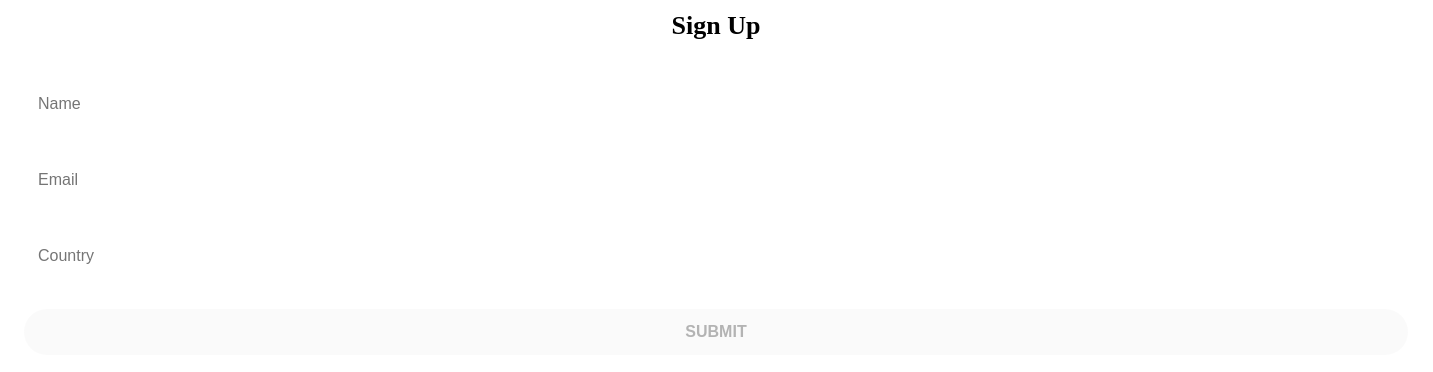
<SignUpForm/> › should enable submit "button" when form is valid
Type "cesar rivera" into the field with placeholder "Name" at (716, 104), box [24,81,1408,127]
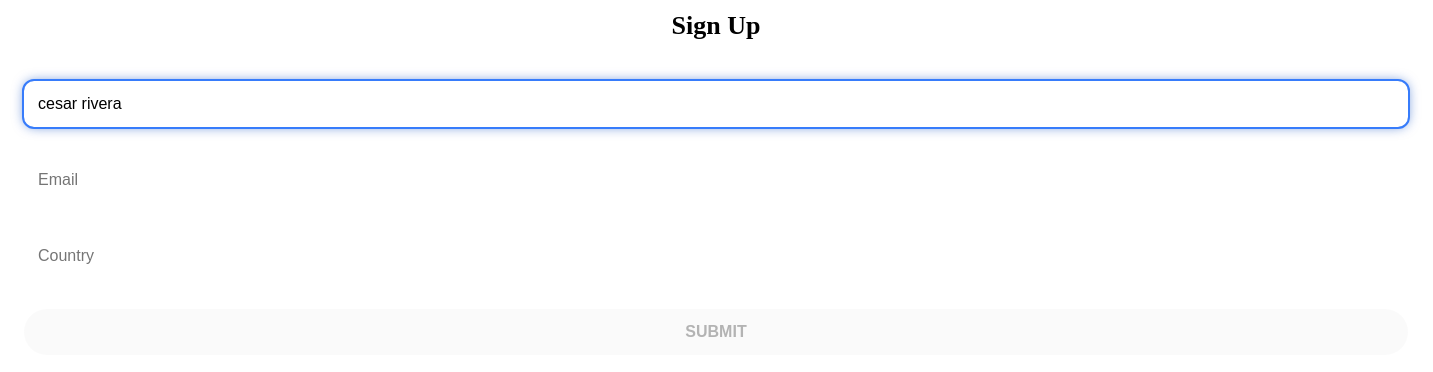
Type "riveramirandac@gmail.com" into the field with placeholder "Email" at (716, 180), box [24,157,1408,203]
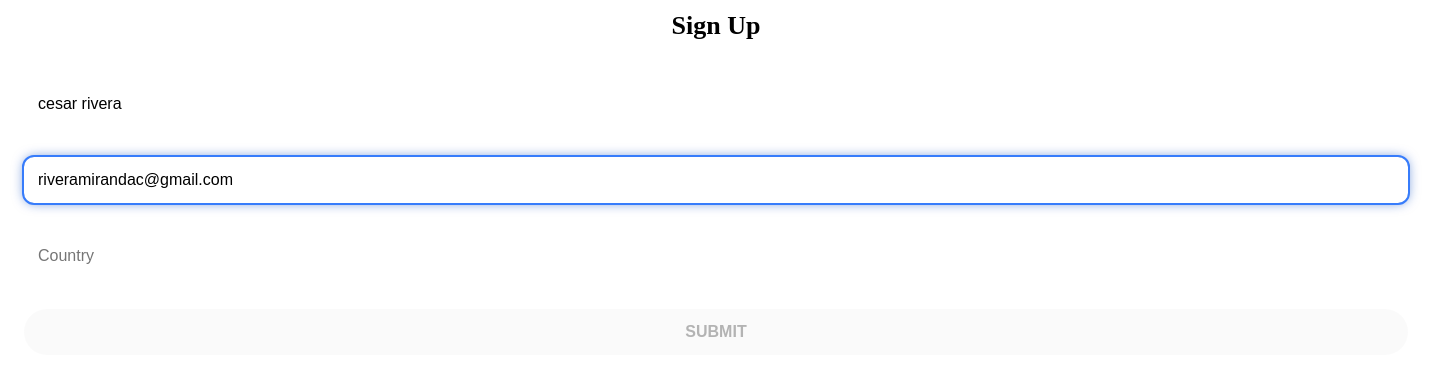
Type "ecuador" into the field with placeholder "Country" at (716, 256), box [24,233,1408,279]
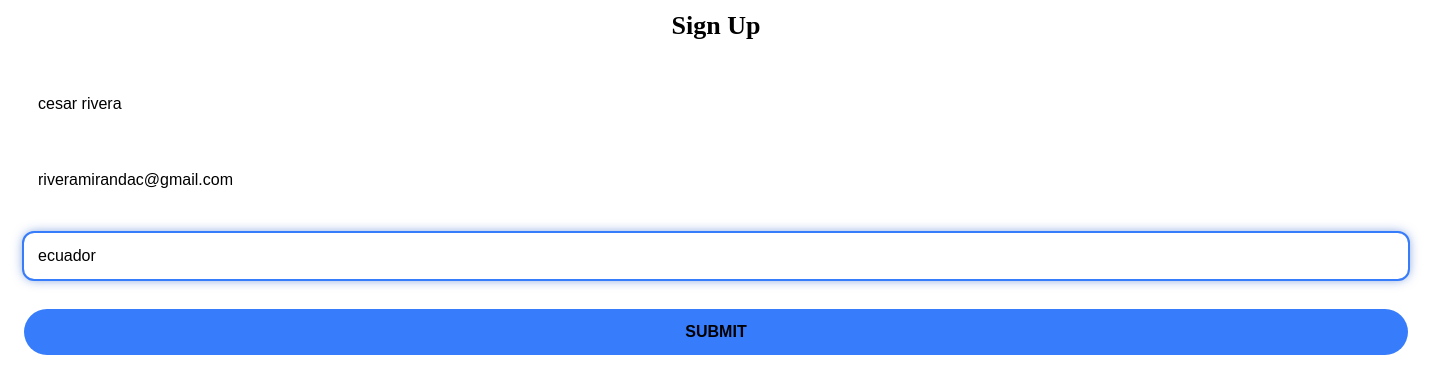
Check: the button "Submit" is enabled, box [24,309,1408,355]
